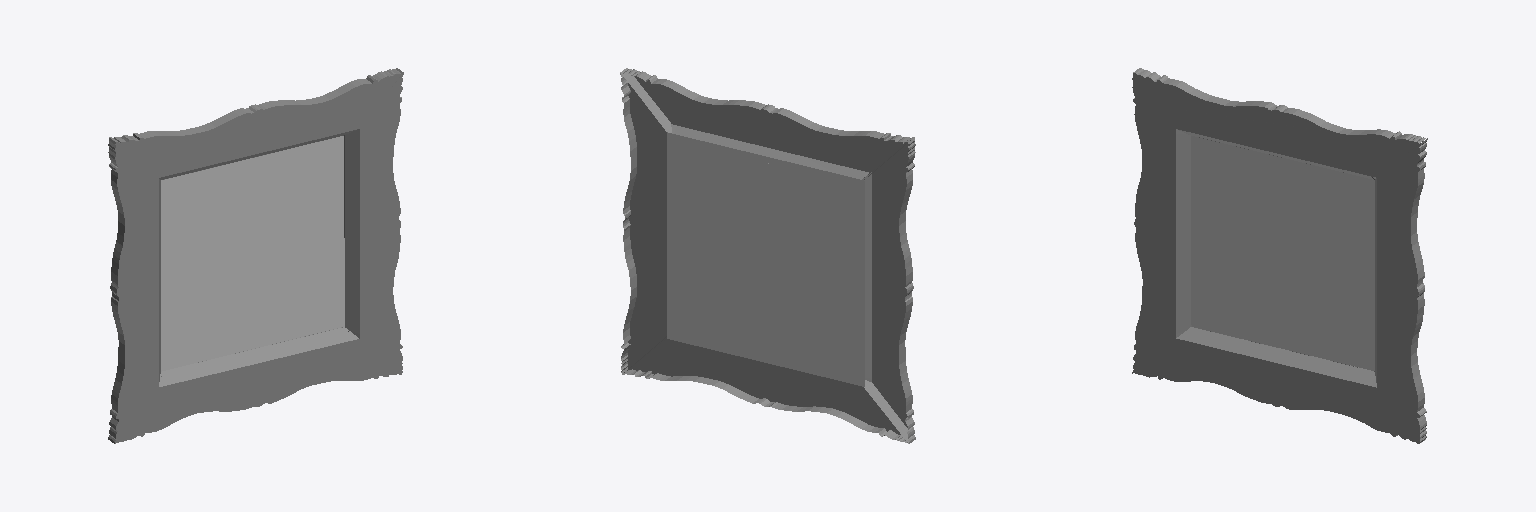
File: frame.obj
3 views of the same model, side by side, from view 1: azimuth 30°, elevation 25°; view 2: azimuth 150°, elevation 25°; view 3: azimuth 330°, elevation 25° (orthographic).
Parts seen in each view (by area): view 1: kehys_Mesh, Plane; view 2: kehys_Mesh, Plane; view 3: kehys_Mesh, Plane.
Part boxes in pixels (x1,y1,x2,y2): kehys_Mesh: (108, 68, 403, 443); Plane: (161, 136, 344, 371); kehys_Mesh: (620, 68, 915, 443); Plane: (667, 132, 864, 386); kehys_Mesh: (1132, 68, 1427, 443); Plane: (1191, 136, 1374, 370).
Size of the model in its own units: 0.5003 by 0.5 by 0.02.